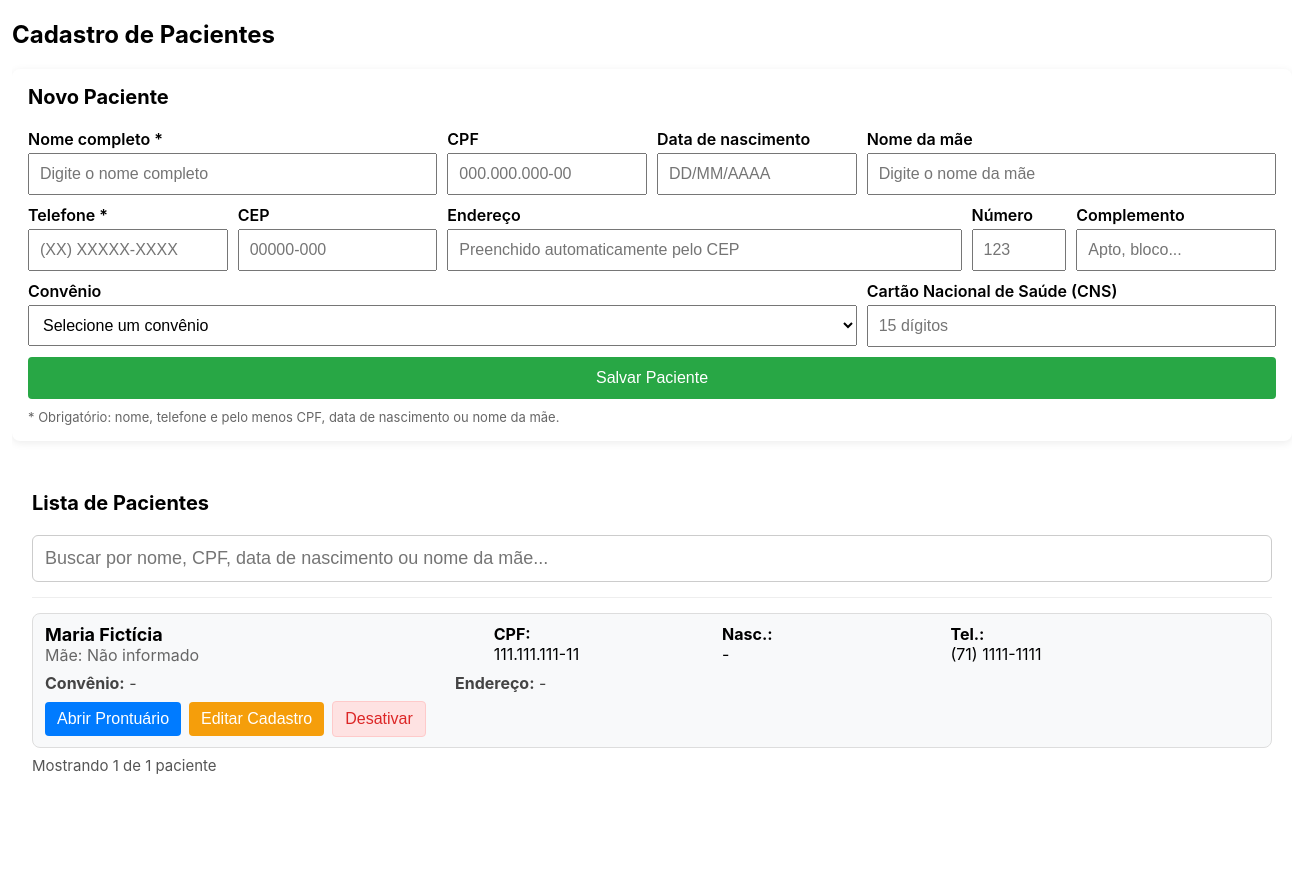
Test case: cadastro alterado por outra pessoa: avisa, não sobrescreve e permite usar os dados atuais
Click the button "Editar Cadastro" at (257, 719), box x1=189 y1=702 x2=324 y2=736
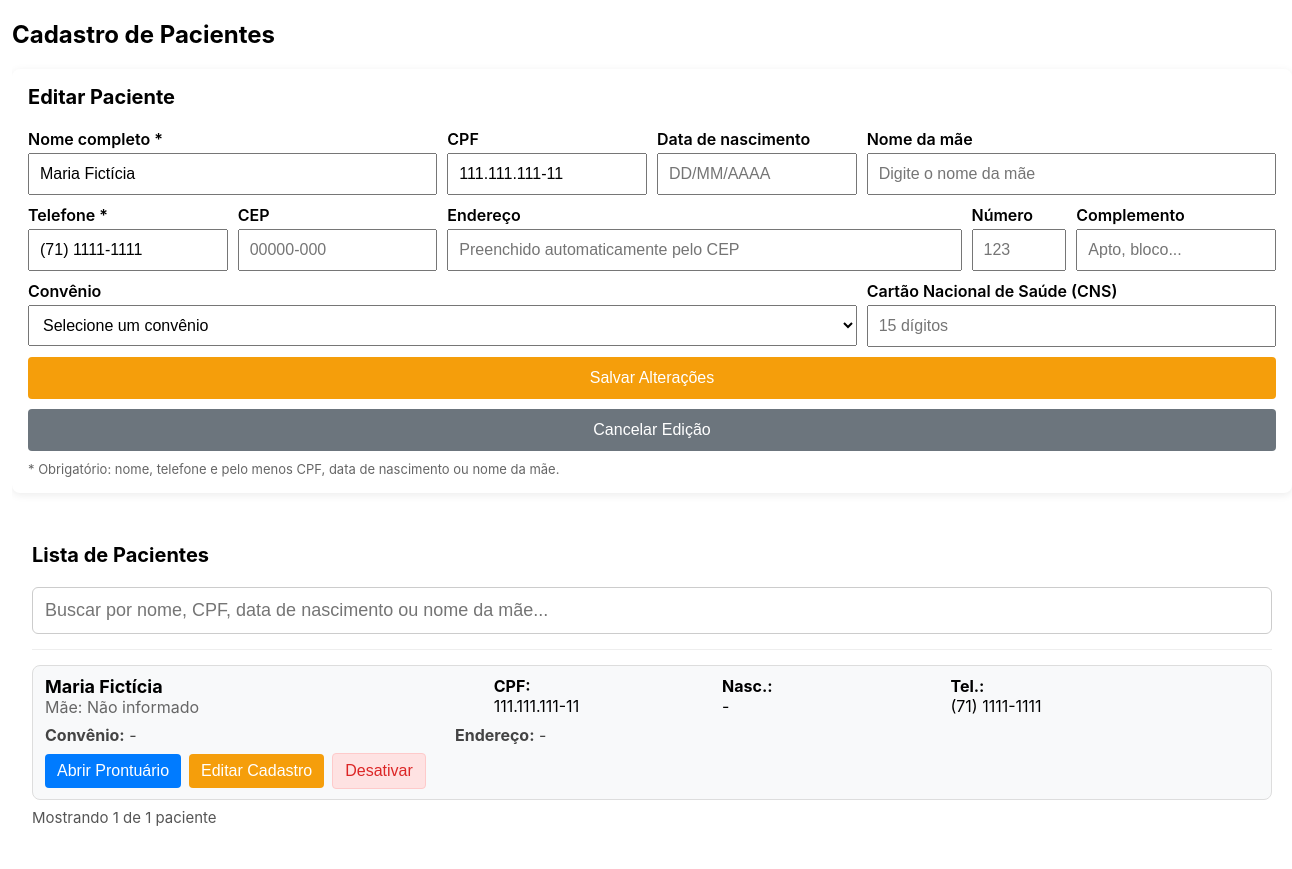
Replace the text in the field showing "(71) 1111-1111" with "(71) 9999-9999" at (128, 250), box x1=28 y1=229 x2=228 y2=271
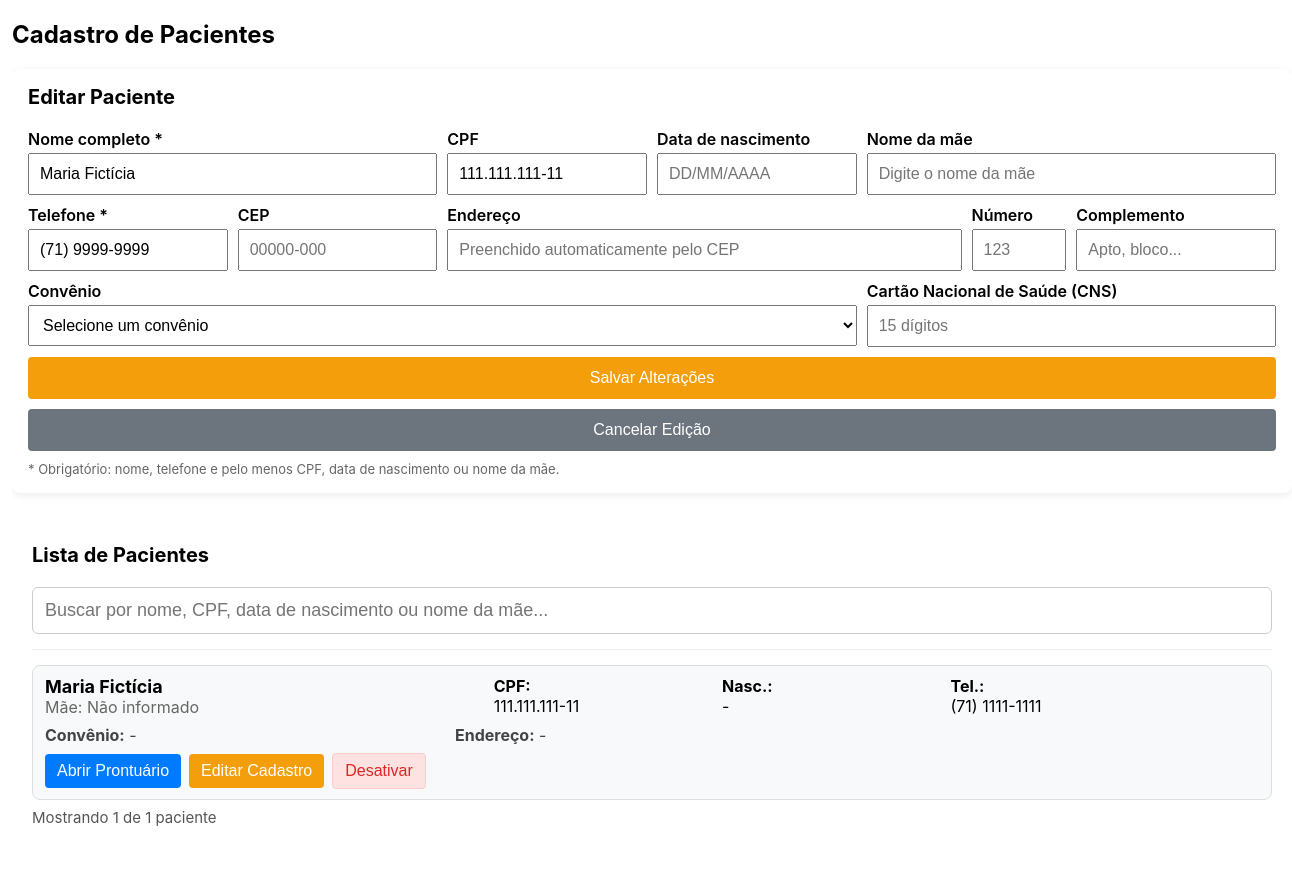
Click the button "Salvar Alterações" at (652, 378), box x1=28 y1=357 x2=1276 y2=399
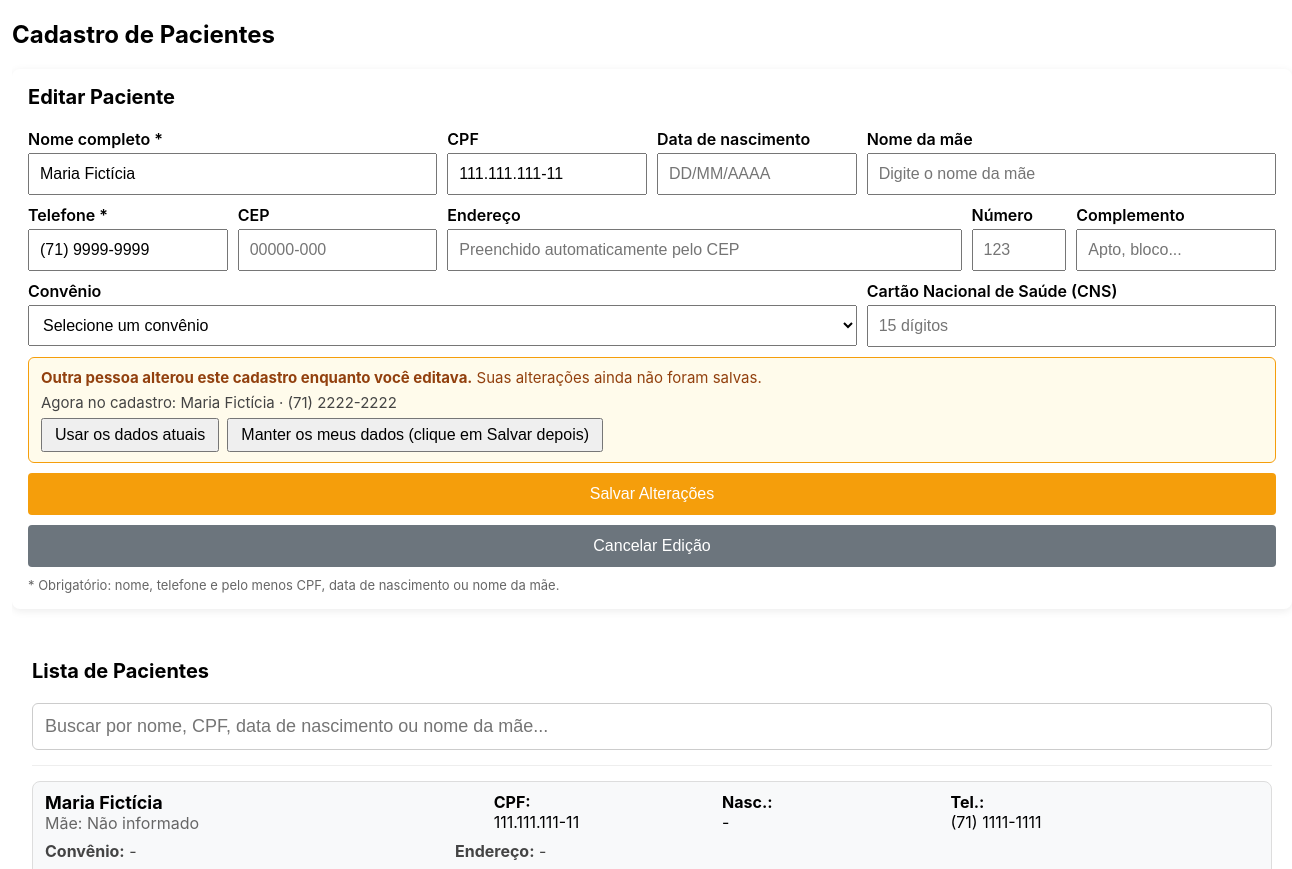
Expected: the text "Outra pessoa alterou este cadastro enquanto você editava." is shown, x1=41 y1=368 x2=472 y2=387
Expected: the button "Salvar Alterações" is disabled, x1=28 y1=473 x2=1276 y2=515
Expected: the text "Agora no cadastro: Maria Fictícia · (71) 2222-2222" is shown, x1=41 y1=393 x2=397 y2=412
Click the button "Usar os dados atuais" at (130, 435), box x1=41 y1=418 x2=219 y2=452
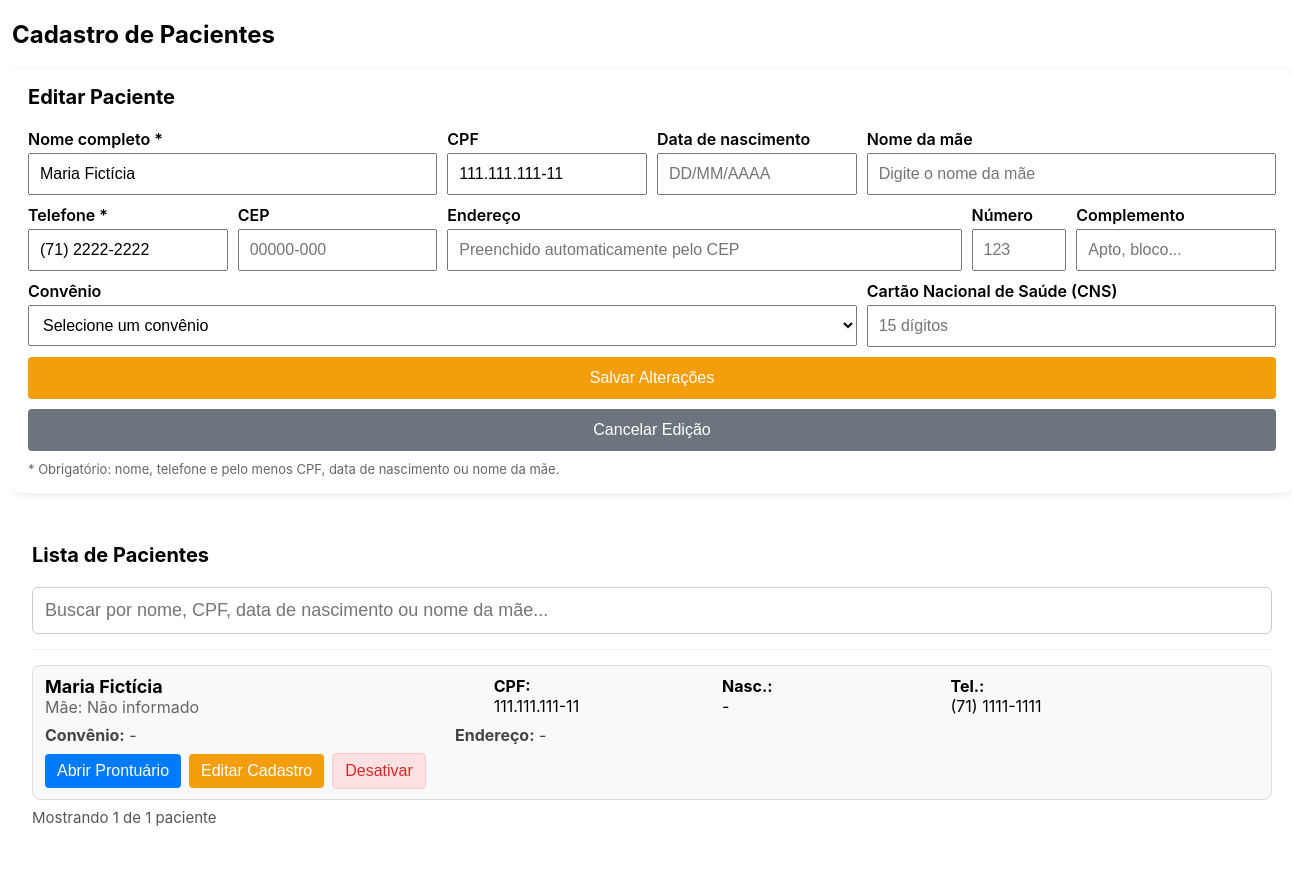
Expected: the field showing "(71) 2222-2222" is shown, x1=28 y1=229 x2=228 y2=271
Expected: the text "Outra pessoa alterou este cadastro" is gone
